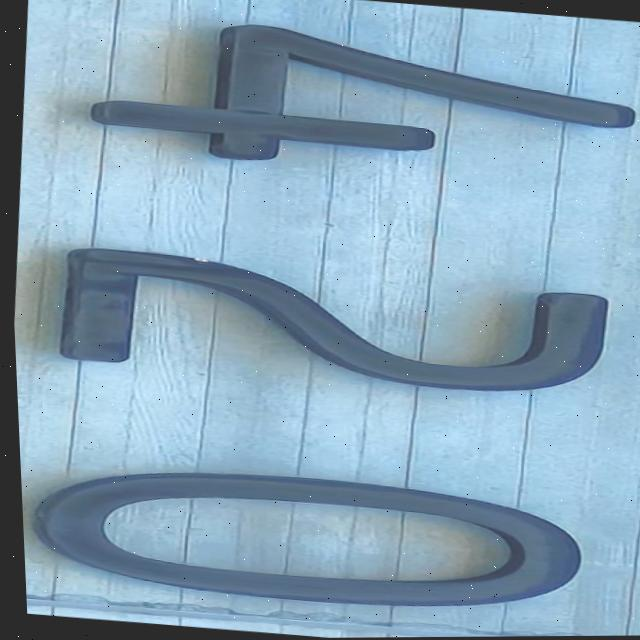character: (61, 1, 640, 211), (39, 231, 631, 417), (20, 446, 604, 632)
